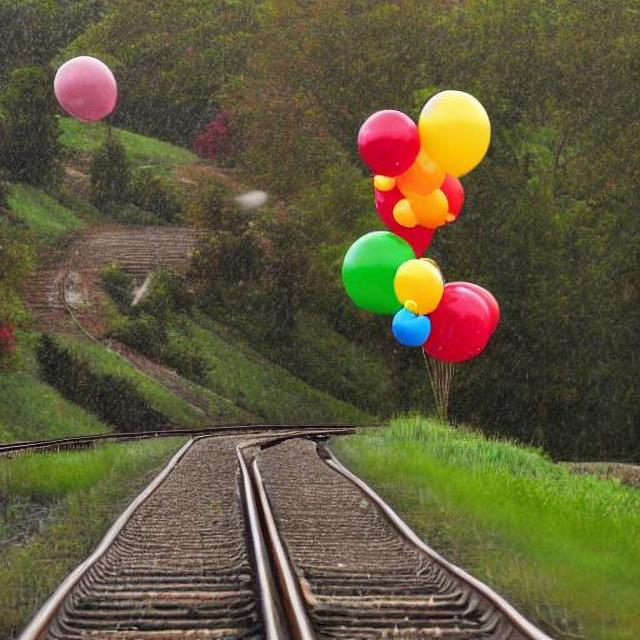balloon: (339, 86, 515, 374), (50, 52, 119, 120)
